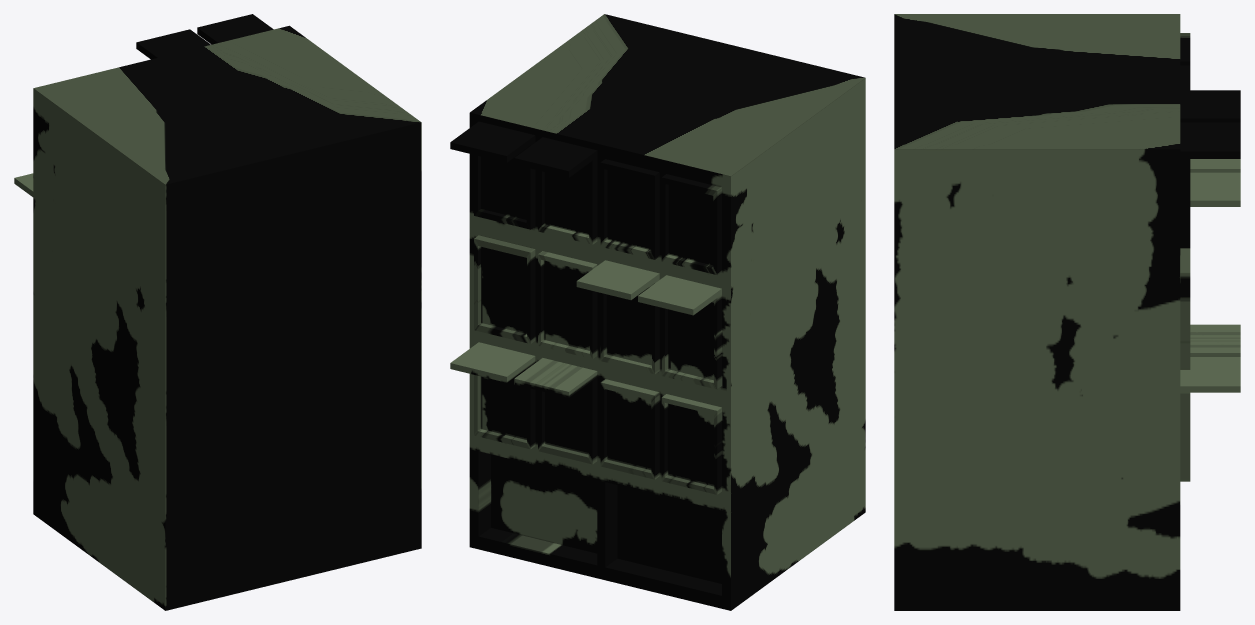
The model's file is middle 2.glb.
The picture shows the model from 3 angles, left to right: view 1: azimuth 30°, elevation 25°; view 2: azimuth 150°, elevation 25°; view 3: azimuth 270°, elevation 25°; orthographic projection. The views are drawn at different scales.
Visible parts, largest first — view 1: Cube; view 2: Cube; view 3: Cube.
Part boxes in pixels (x1=…): Cube: x1=14, y1=14, x2=421, y2=610; Cube: x1=450, y1=14, x2=865, y2=610; Cube: x1=894, y1=14, x2=1240, y2=610.
Bounding box in the file's own units: 8.81 × 14.01 × 9.53.
Materials: 1 (1 with a texture image).
